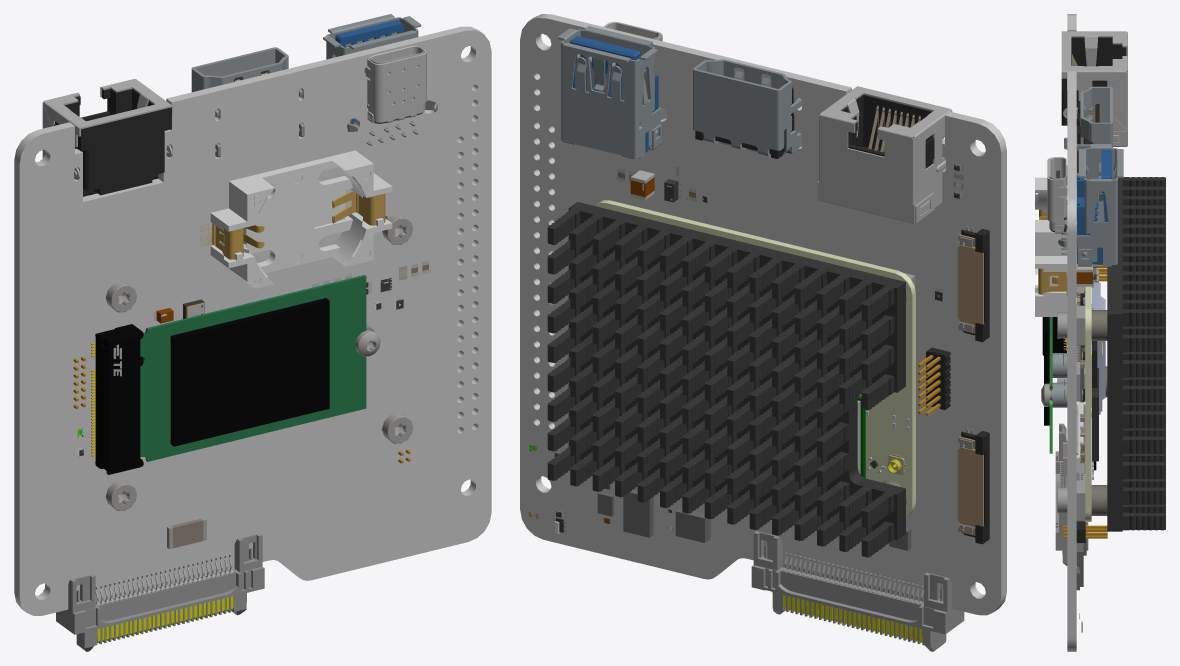
File: exp1.glb
3 views of the same model, side by side, from view 1: azimuth 30°, elevation 25°; view 2: azimuth 150°, elevation 25°; view 3: azimuth 270°, elevation 25° (orthographic). The views are drawn at different scales.
Parts seen in each view (by area): view 1: board, parts, if_9, if_0, if_1, if_7, if_4, if_3, if_2, blocks, decals, inst_0_3 (+3 smaller); view 2: parts, board, if_1, if_3, if_0, if_2, if_6, if_5, blocks, if_8, decals; view 3: parts, board, if_3, if_1, if_9, if_2, blocks, if_4, if_0, inst_3_0, if_7, inst_2_1 (+3 smaller).
Boxes of the visible parts, x1,y1,x2,y2 form: board: (14,26,491,615); parts: (140,275,380,461); if_9: (200,150,392,288); if_0: (56,533,264,651); if_1: (42,79,173,196); if_7: (91,324,143,474); if_4: (364,45,426,124); if_3: (323,14,437,145); if_2: (191,47,304,157); blocks: (156,299,206,549); decals: (77,261,429,456); inst_0_3: (382,412,413,443); parts: (547,200,915,557); board: (520,14,1006,615); if_1: (817,86,952,224); if_3: (558,26,667,159); if_0: (751,531,964,651); if_2: (693,59,801,158); if_6: (957,226,989,342); if_5: (957,428,989,544); blocks: (597,170,915,550); if_8: (918,347,950,415); decals: (527,163,963,532); parts: (1041,177,1165,586); board: (1067,14,1076,651); if_3: (1058,144,1123,266); if_1: (1061,31,1127,146); if_9: (1035,177,1067,316); if_2: (1064,86,1112,184); blocks: (1063,187,1092,590); if_4: (1047,157,1067,233); if_0: (1055,423,1088,565); inst_3_0: (1076,401,1084,473); if_7: (1042,317,1067,355); inst_2_1: (1052,382,1067,407).
Bounding box in the file's own units: 82 × 88.52 × 22.37.
